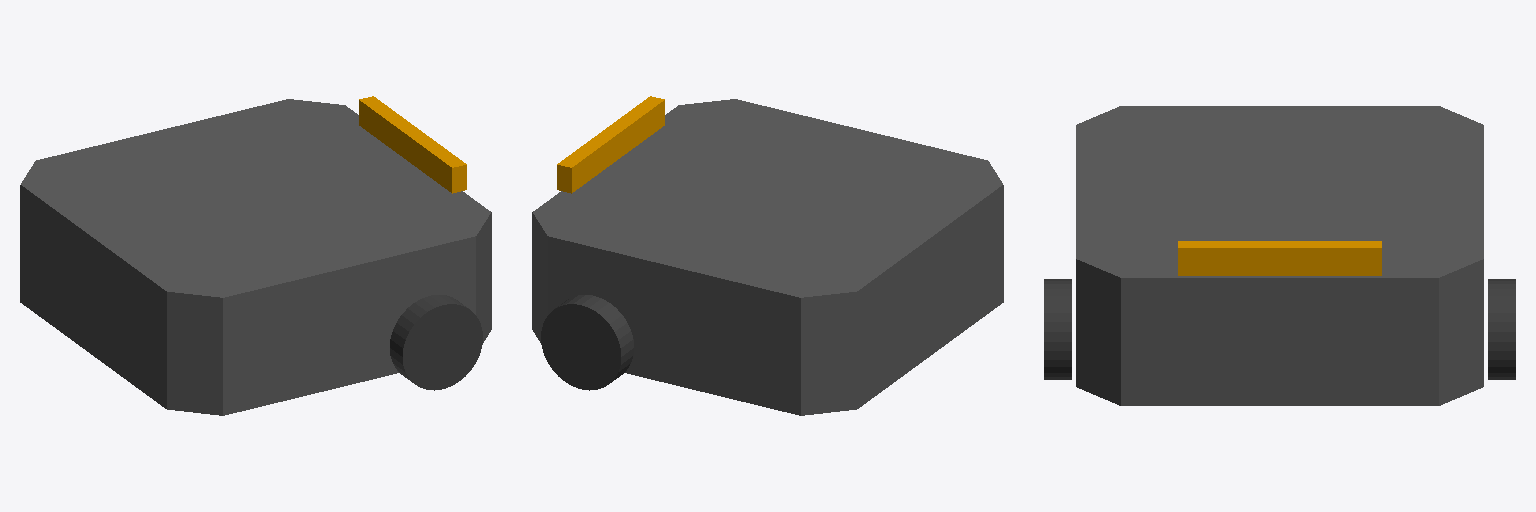
URDF robot description (turtlebot3_waffle):
<?xml version="1.0" ?>
<robot name="turtlebot3_waffle" xmlns:xacro="http://ros.org/wiki/xacro">
  <!-- <xacro:include filename="$(find turtlebot3_description)/urdf/common_properties.urdf"/>

  <xacro:property name="r200_cam_rgb_px" value="0.005"/>
  <xacro:property name="r200_cam_rgb_py" value="0.018"/>
  <xacro:property name="r200_cam_rgb_pz" value="0.013"/>
  <xacro:property name="r200_cam_depth_offset" value="0.01"/> -->

  <!-- Init colour -->
  <material name="black">
      <color rgba="0.0 0.0 0.0 1.0"/>
  </material>

  <material name="dark">
    <color rgba="0.3 0.3 0.3 1.0"/>
  </material>

  <material name="light_black">
    <color rgba="0.4 0.4 0.4 1.0"/>
  </material>

  <material name="blue">
    <color rgba="0.0 0.0 0.8 1.0"/>
  </material>

  <material name="green">
    <color rgba="0.0 0.8 0.0 1.0"/>
  </material>

  <material name="grey">
    <color rgba="0.5 0.5 0.5 1.0"/>
  </material>

  <material name="orange">
    <color rgba="1.0 0.4235 0.0392 1.0"/>
  </material>

  <material name="brown">
    <color rgba="0.8706 0.8118 0.7647 1.0"/>
  </material>

  <material name="red">
    <color rgba="0.8 0.0 0.0 1.0"/>
  </material>

  <material name="white">
    <color rgba="1.0 1.0 1.0 1.0"/>
  </material>

  <link name="base_footprint"/>

  <joint name="base_joint" type="fixed">
    <parent link="base_footprint"/>
    <child link="base_link" />
    <origin xyz="0 0 0.010" rpy="0 0 0"/>
  </joint>

  <link name="base_link">
    <visual>
      <origin xyz="-0.064 0 0.0" rpy="0 0 0"/>
      <geometry>
        <mesh filename="package://followme_turtlebot3_gazebo/models/turtlebot3_common/meshes/waffle_base.dae" scale="0.001 0.001 0.001"/>
      </geometry>
      <material name="light_black"/>
    </visual>
  
    <collision>
      <origin xyz="-0.064 0 0.047" rpy="0 0 0"/>
      <geometry>
        <box size="0.266 0.266 0.094"/>
      </geometry>
    </collision>

    <inertial>
      <origin xyz="0 0 0" rpy="0 0 0"/>
      <mass value="1.3729096e+00"/>
      <inertia ixx="8.7002718e-03" ixy="-4.7576583e-05" ixz="1.1160499e-04"
               iyy="8.6195418e-03" iyz="-3.5422299e-06"
               izz="1.4612727e-02" />
    </inertial>
  </link>

  <joint name="wheel_left_joint" type="continuous">
    <parent link="base_link"/>
    <child link="wheel_left_link"/>
    <origin xyz="0.0 0.144 0.023" rpy="-1.57 0 0"/>
    <axis xyz="0 0 1"/>
  </joint>

  <link name="wheel_left_link">
    <visual>
      <origin xyz="0 0 0" rpy="1.57 0 0"/>
      <geometry>
        <mesh filename="package://followme_turtlebot3_gazebo/models/turtlebot3_common/meshes/tire.dae" scale="0.001 0.001 0.001"/>
      </geometry>
      <material name="dark"/>
    </visual>

    <collision>
      <origin xyz="0 0 0" rpy="0 0 0"/>
      <geometry>
        <cylinder length="0.018" radius="0.033"/>
      </geometry>
    </collision>

    <inertial>
      <origin xyz="0 0 0" />
      <mass value="2.8498940e-02" />
      <inertia ixx="1.1175580e-05" ixy="-4.2369783e-11" ixz="-5.9381719e-09"
               iyy="1.1192413e-05" iyz="-1.4400107e-11"
               izz="2.0712558e-05" />
      </inertial>
  </link>

  <joint name="wheel_right_joint" type="continuous">
    <parent link="base_link"/>
    <child link="wheel_right_link"/>
    <origin xyz="0.0 -0.144 0.023" rpy="-1.57 0 0"/>
    <axis xyz="0 0 1"/>
  </joint>

  <link name="wheel_right_link">
    <visual>
      <origin xyz="0 0 0" rpy="1.57 0 0"/>
      <geometry>
        <mesh filename="package://followme_turtlebot3_gazebo/models/turtlebot3_common/meshes/tire.dae" scale="0.001 0.001 0.001"/>
      </geometry>
      <material name="dark"/>
    </visual>

    <collision>
      <origin xyz="0 0 0" rpy="0 0 0"/>
      <geometry>
        <cylinder length="0.018" radius="0.033"/>
      </geometry>
    </collision>

    <inertial>
      <origin xyz="0 0 0" />
      <mass value="2.8498940e-02" />
      <inertia ixx="1.1175580e-05" ixy="-4.2369783e-11" ixz="-5.9381719e-09"
               iyy="1.1192413e-05" iyz="-1.4400107e-11"
               izz="2.0712558e-05" />
      </inertial>
  </link>

  <joint name="caster_back_right_joint" type="fixed">
    <parent link="base_link"/>
    <child link="caster_back_right_link"/>
    <origin xyz="-0.177 -0.064 -0.004" rpy="-1.57 0 0"/>
  </joint>

  <link name="caster_back_right_link">
    <collision>
      <origin xyz="0 0.001 0" rpy="0 0 0"/>
      <geometry>
        <box size="0.030 0.009 0.020"/>
      </geometry>
    </collision>

    <inertial>
      <origin xyz="0 0 0" />
      <mass value="0.005" />
      <inertia ixx="0.001" ixy="0.0" ixz="0.0"
               iyy="0.001" iyz="0.0"
               izz="0.001" />
    </inertial>
  </link>

  <joint name="caster_back_left_joint" type="fixed">
    <parent link="base_link"/>
    <child link="caster_back_left_link"/>
    <origin xyz="-0.177 0.064 -0.004" rpy="-1.57 0 0"/>
  </joint>

  <link name="caster_back_left_link">
    <collision>
      <origin xyz="0 0.001 0" rpy="0 0 0"/>
      <geometry>
        <box size="0.030 0.009 0.020"/>
      </geometry>
    </collision>

    <inertial>
      <origin xyz="0 0 0" />
      <mass value="0.005" />
      <inertia ixx="0.001" ixy="0.0" ixz="0.0"
               iyy="0.001" iyz="0.0"
               izz="0.001" />
    </inertial>
  </link>

  <joint name="imu_joint" type="fixed">
    <parent link="base_link"/>
    <child link="imu_link"/>
    <origin xyz="0.0 0 0.068" rpy="0 0 0"/>
  </joint>

  <link name="imu_link"/>

  <joint name="scan_joint" type="fixed">
    <parent link="base_link"/>
    <child link="base_scan"/>
    <origin xyz="-0.064 0 0.122" rpy="0 0 0"/>
  </joint>

  <link name="base_scan">
    <visual>
      <origin xyz="0 0 0" rpy="0 0 0"/>
      <geometry>
        <mesh filename="package://followme_turtlebot3_gazebo/models/turtlebot3_common/meshes/lds.dae" scale="0.001 0.001 0.001"/>
      </geometry>
      <material name="dark"/>
    </visual>

    <collision>
      <origin xyz="0.015 0 -0.0065" rpy="0 0 0"/>
      <geometry>
        <cylinder length="0.0315" radius="0.055"/>
      </geometry>
    </collision>

    <inertial>
      <mass value="0.114" />
      <origin xyz="0 0 0" />
      <inertia ixx="0.001" ixy="0.0" ixz="0.0"
               iyy="0.001" iyz="0.0"
               izz="0.001" />
    </inertial>
  </link>

  <joint name="camera_joint" type="fixed">
    <origin xyz="0.064 0.0 0.104" rpy="0 0 0"/>
    <parent link="base_link"/>
    <child link="camera_link"/>
  </joint>

  <link name="camera_link">
    <visual>
     <origin xyz="0 0 0" rpy="0 0 0"/>
      <geometry>
       <!-- <mesh filename="package://followme_turtlebot3_gazebo/models/turtlebot3_common/meshes/r200.dae" /> -->
       <box size="0.012 0.132 0.020"/>
      </geometry>
    </visual>
    <collision>
      <origin xyz="0.0 0.0 0.0" rpy="0 0 0"/>
      <geometry>
        <box size="0.012 0.132 0.020"/>
      </geometry>
    </collision>

    <!-- This inertial field needs doesn't contain reliable data!! -->
<!--   <inertial>
      <mass value="0.564" />
      <origin xyz="0 0 0" />
      <inertia ixx="0.003881243" ixy="0.0" ixz="0.0"
               iyy="0.000498940" iyz="0.0"
               izz="0.003879257" />
    </inertial>-->
  </link>

  

  <joint name="camera_optical_joint" type="fixed">
    <origin xyz="0 0 0" rpy="-1.57 0 -1.57"/>
    <parent link="camera_link"/>
    <child link="camera_optical_link"/>
  </joint>

  <link name="camera_optical_link"/>
  

</robot>

--- What the picture shows (computed from the rendered views, not written in the file) ---
3 views of the same robot in one strip: view 1: azimuth 30°, elevation 25°; view 2: azimuth 150°, elevation 25°; view 3: azimuth 270°, elevation 25° (orthographic).
Model turtlebot3_waffle with 10 links and 9 joints (2 continuous, 7 fixed), rooted at base_footprint, posed all joints at 0.
Links seen in each view (by area): view 1: base_link, wheel_right_link, camera_link; view 2: base_link, wheel_left_link, camera_link; view 3: base_link, camera_link, wheel_left_link, wheel_right_link.
Link boxes in pixels (box(x1,y1,x2,y2)): base_link: box(20, 99, 491, 415); wheel_right_link: box(390, 295, 482, 390); camera_link: box(359, 96, 466, 193); base_link: box(532, 99, 1003, 415); wheel_left_link: box(541, 295, 633, 390); camera_link: box(557, 96, 664, 193); base_link: box(1076, 106, 1483, 405); camera_link: box(1178, 241, 1381, 275); wheel_left_link: box(1488, 279, 1515, 379); wheel_right_link: box(1044, 279, 1071, 379).
Size in the robot's own frame: 0.2665 by 0.3062 by 0.1239 metres.
Meshes: 3 distinct files referenced, 3 mesh visuals loaded (2 Collada DAE); not drawn: 1 (reference not matched to a file when rendering).